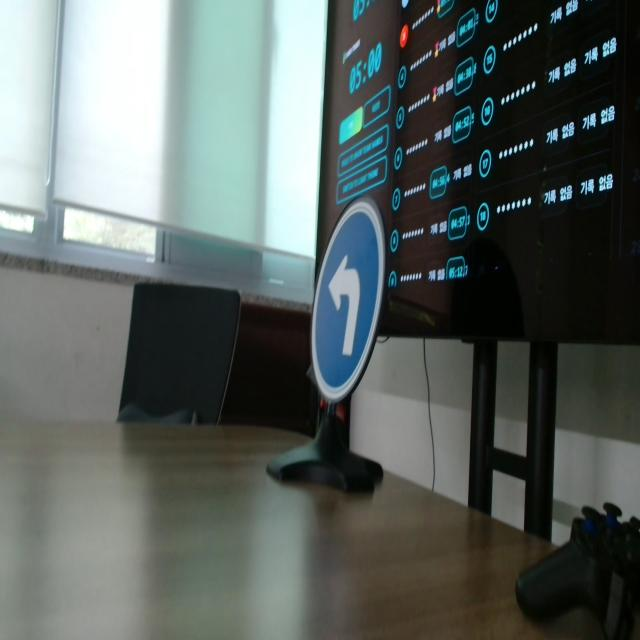left_direction: (304, 184, 401, 416)
